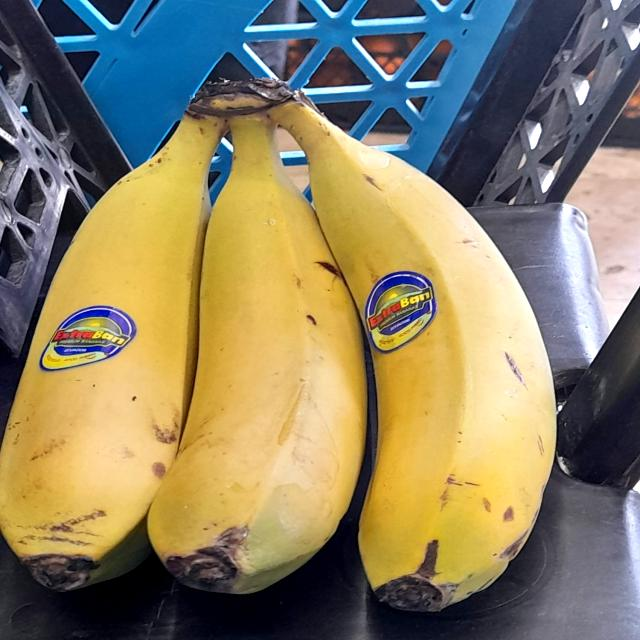banana: (0, 70, 566, 640), (267, 78, 590, 640), (0, 65, 256, 640), (135, 72, 351, 620)
